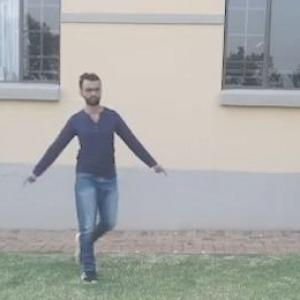land: (16, 69, 157, 264)
